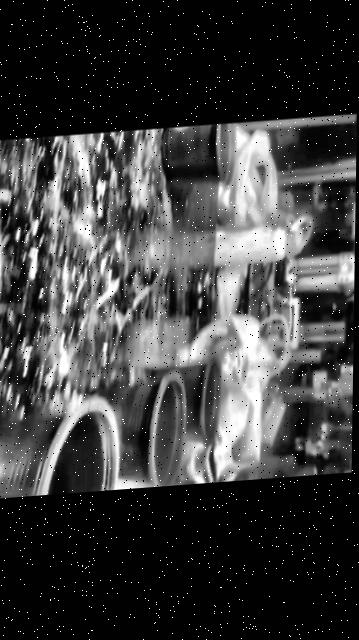pot: (0, 366, 118, 499), (95, 372, 186, 488), (150, 360, 221, 441), (161, 123, 234, 185)
